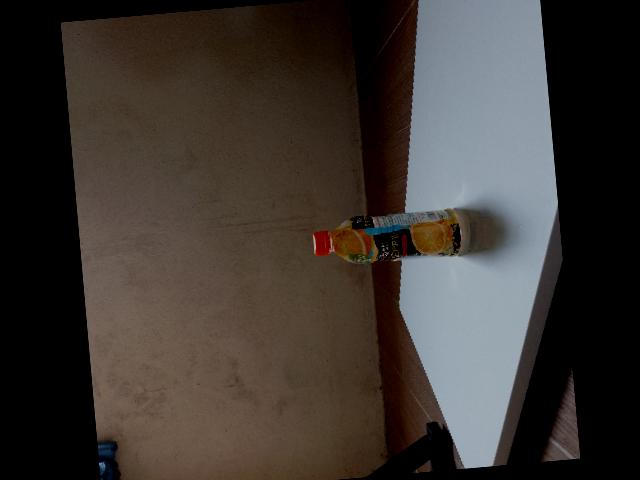teppy_orange_juice: (313, 206, 471, 263)
